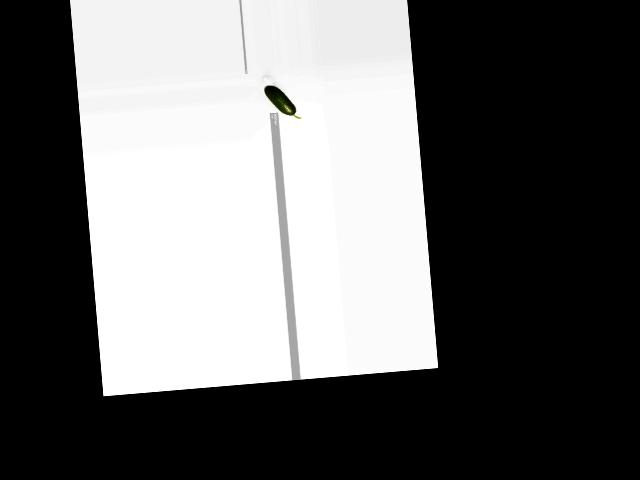cucumber: (263, 84, 300, 122)
